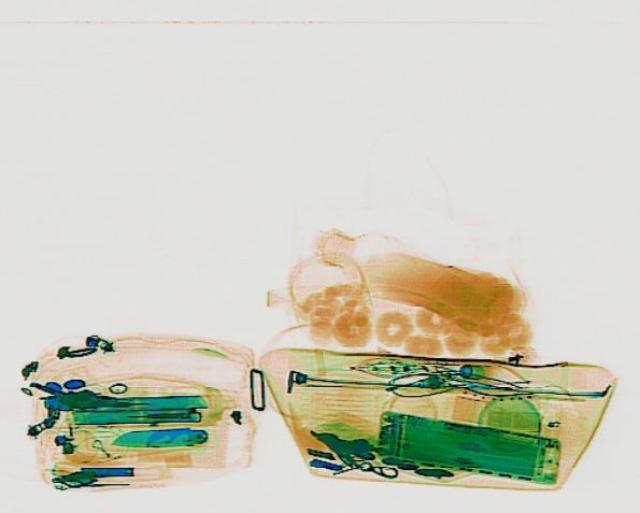Knife: (110, 424, 204, 447)
